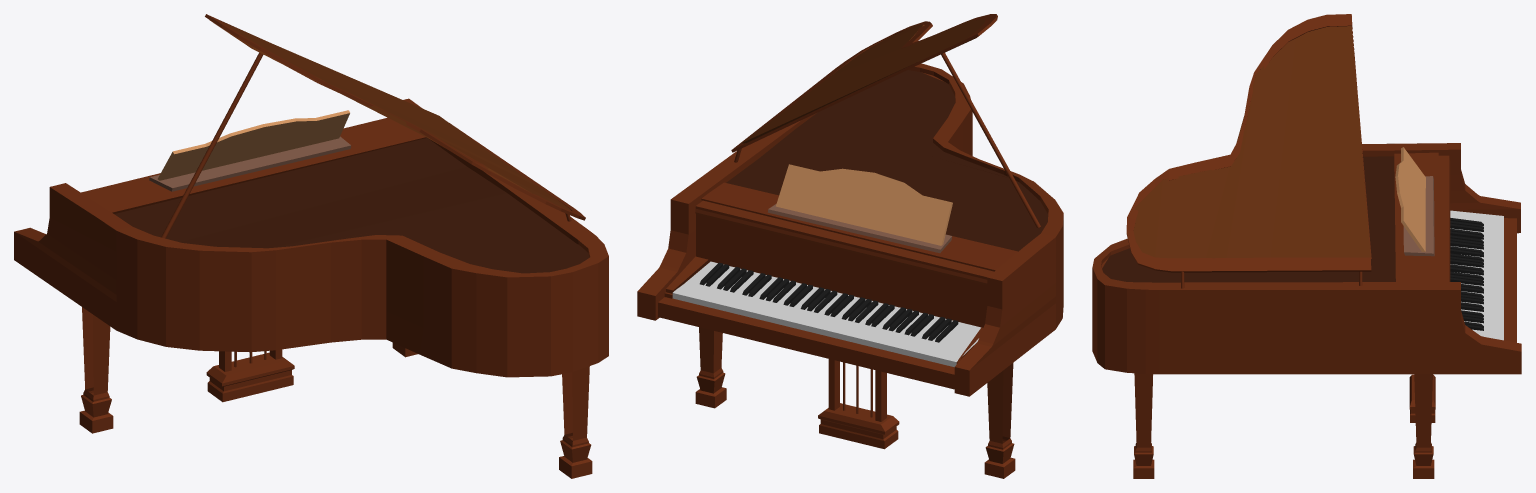
File: pianoblendforimprt23.fbx
3 views of the same model, side by side, from view 1: azimuth 30°, elevation 25°; view 2: azimuth 150°, elevation 25°; view 3: azimuth 270°, elevation 25° (orthographic). The views are drawn at different scales.
Parts seen in each view (by area): view 1: Cube; view 2: Cube; view 3: Cube.
Part boxes in pixels (left/top/right/bottom): Cube: left=14, top=14, right=608, bottom=478; Cube: left=637, top=14, right=1063, bottom=478; Cube: left=1092, top=14, right=1521, bottom=478.
Size of the model in its own units: 5.31 by 6.04 by 6.53.
